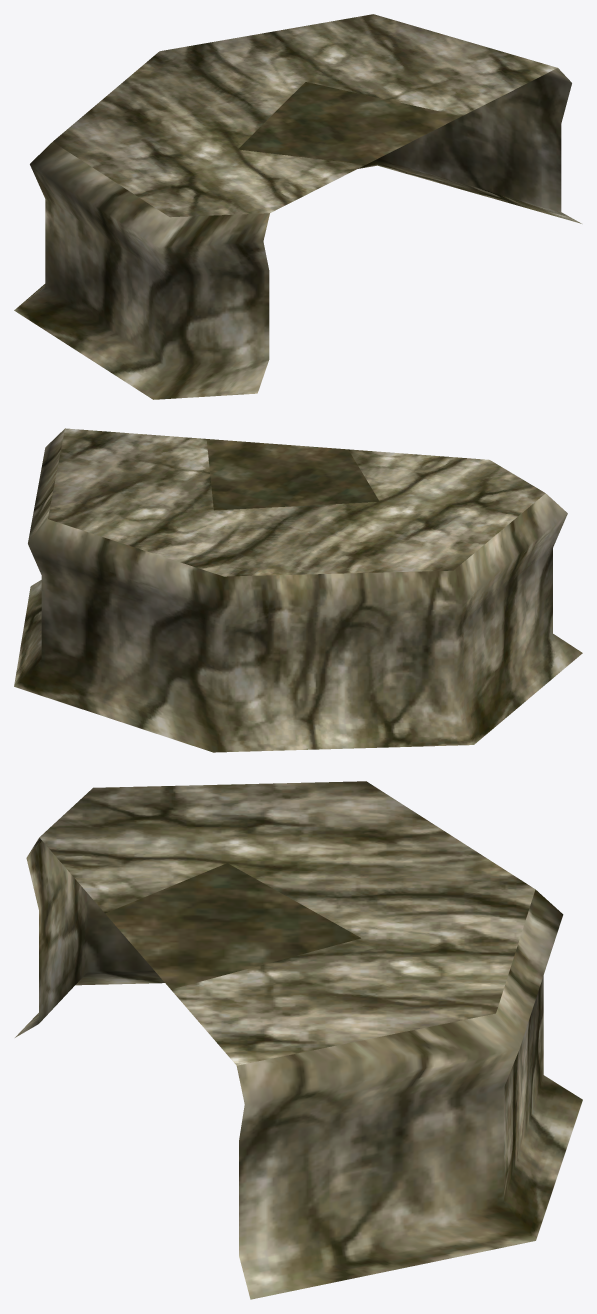
Rendered from CB_NEWPLAYSURFACE_CB_PLAYSURFACE87.fbx.
The picture shows the model from 3 angles, top to bottom: view 1: azimuth 30°, elevation 25°; view 2: azimuth 150°, elevation 25°; view 3: azimuth 270°, elevation 25°; orthographic projection. The views are drawn at different scales.
Parts seen in each view (by area): view 1: CB_NEWPLAYSURFACE_CB_PLAYSURFACE87; view 2: CB_NEWPLAYSURFACE_CB_PLAYSURFACE87; view 3: CB_NEWPLAYSURFACE_CB_PLAYSURFACE87.
Part boxes in pixels (bbox=[...]): CB_NEWPLAYSURFACE_CB_PLAYSURFACE87: bbox=[14, 14, 581, 399]; CB_NEWPLAYSURFACE_CB_PLAYSURFACE87: bbox=[14, 428, 582, 752]; CB_NEWPLAYSURFACE_CB_PLAYSURFACE87: bbox=[15, 781, 582, 1299].
Size of the model in its own units: 113665 by 35371 by 84831.
3 materials, 3 textured.
